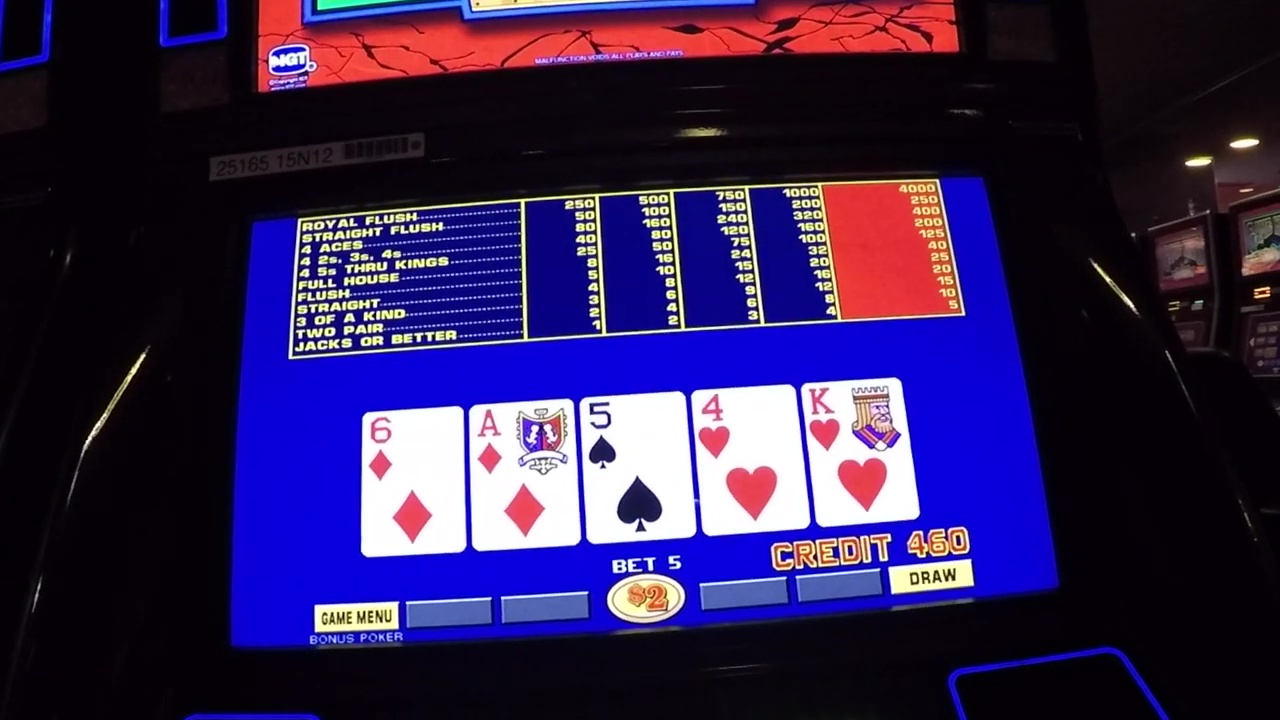D6: (365, 411, 464, 482)
DA: (473, 406, 571, 473)
H4: (696, 395, 795, 464)
HK: (810, 385, 905, 453)
S5: (584, 400, 683, 470)
